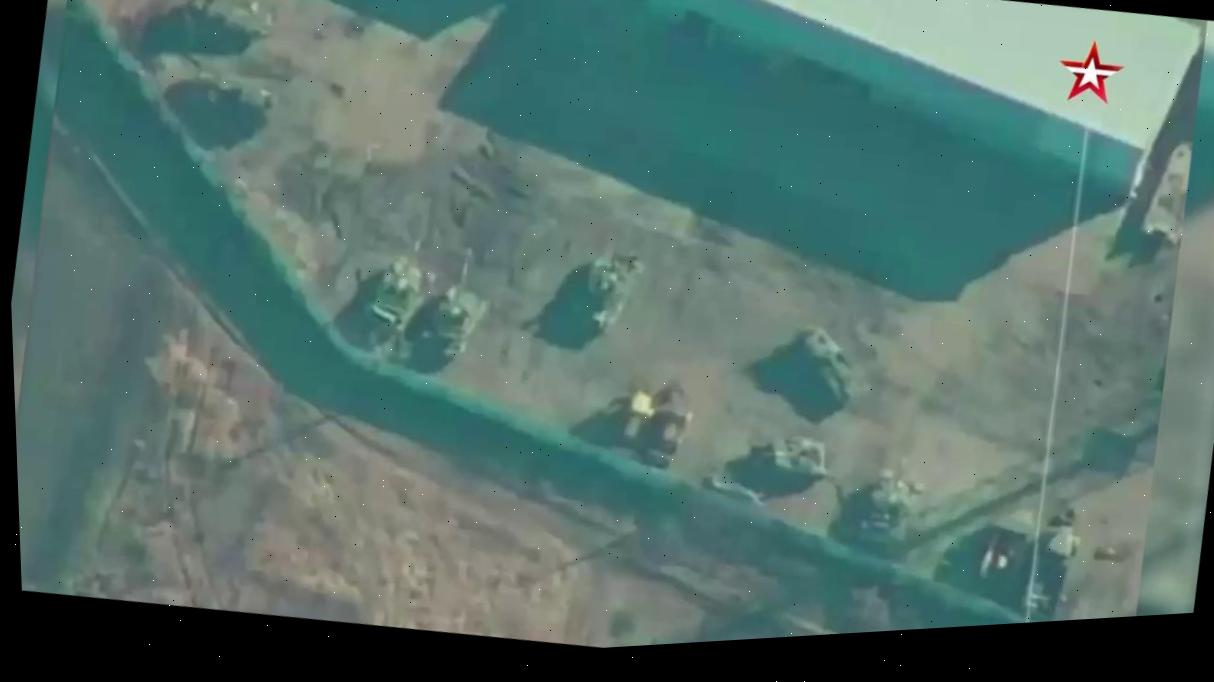tank: (768, 311, 881, 418), (411, 238, 499, 363), (356, 230, 442, 337)
